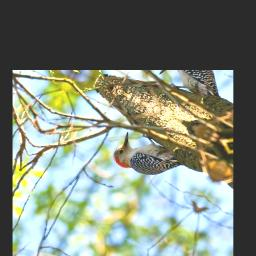Woodpecker: (102, 121, 196, 201)
